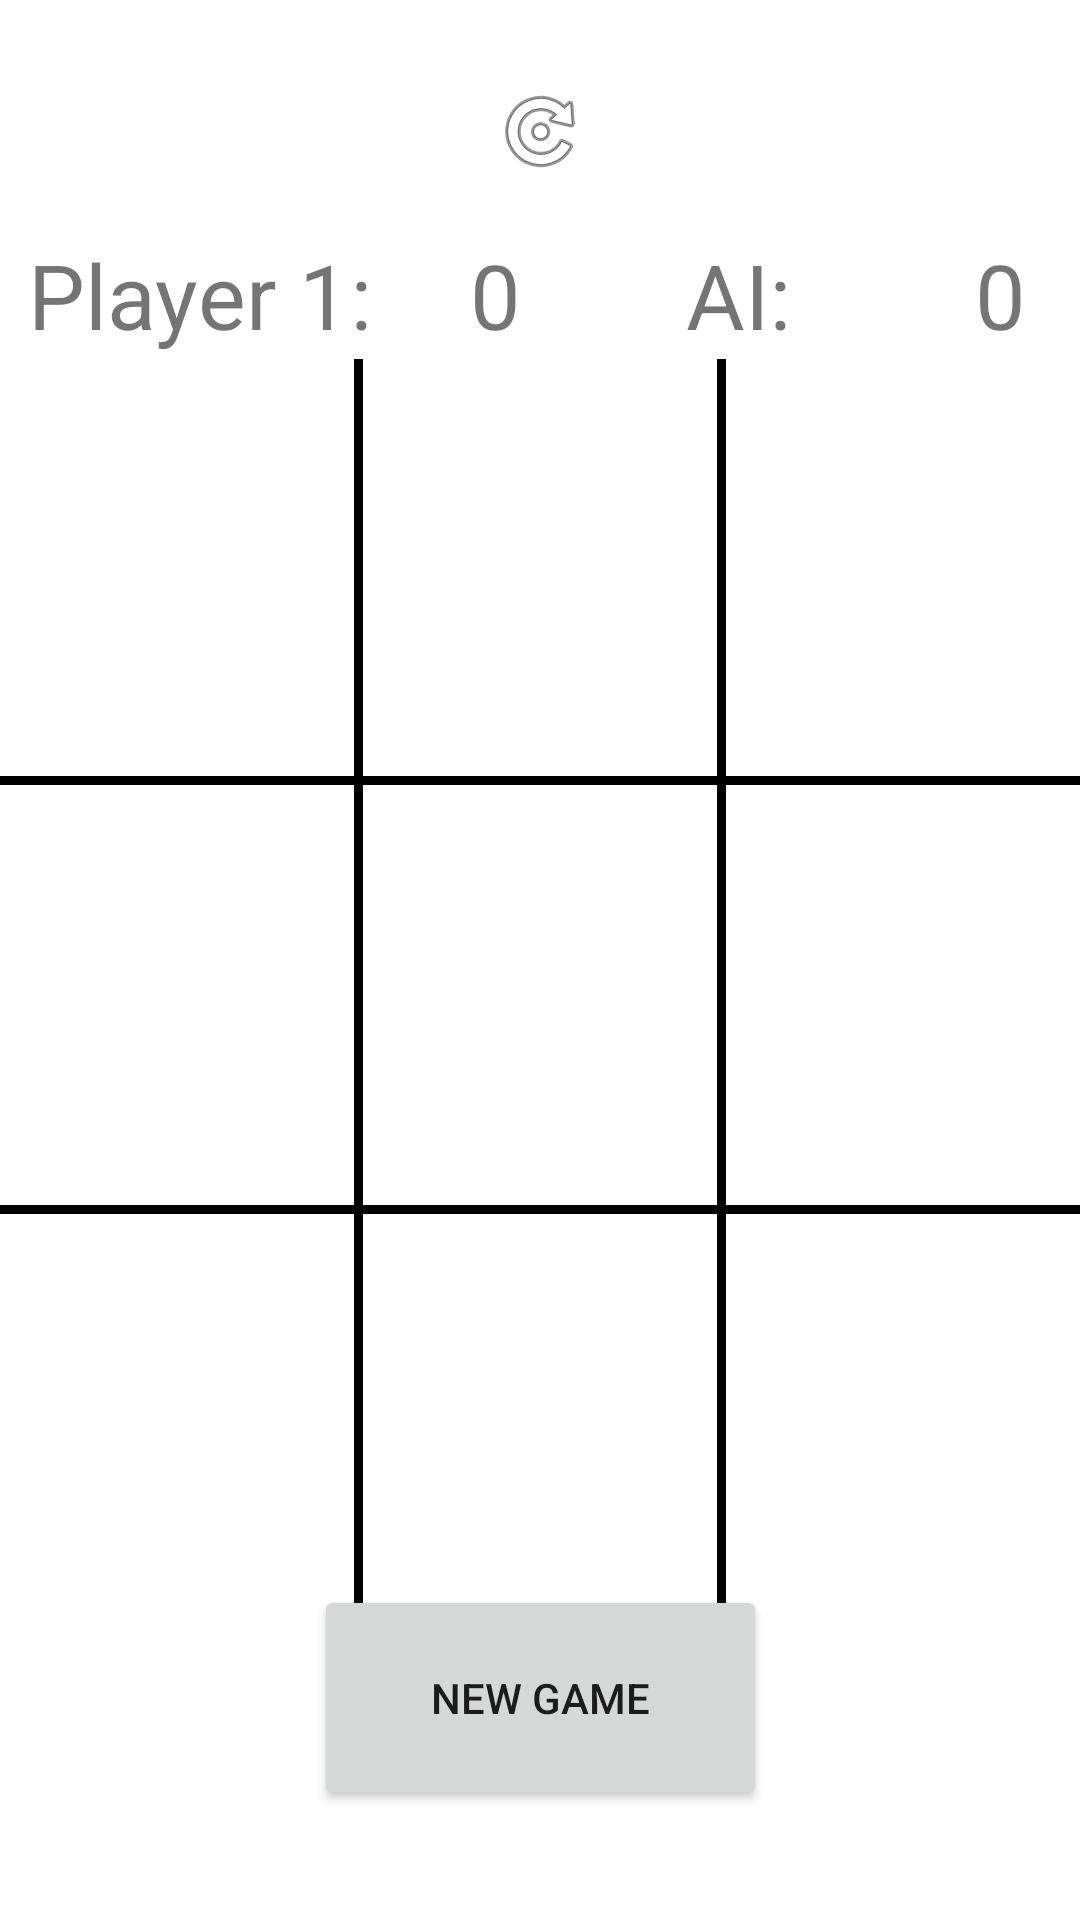

Screen size 1080×1920. Icon name, then its box in pixels as (x1, y1, x2, y2):
rotate: (505, 96, 575, 167)
